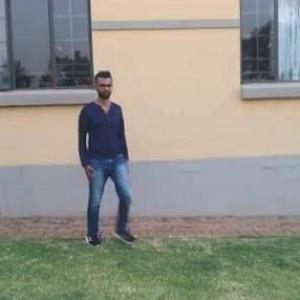follow: (78, 71, 128, 241)
